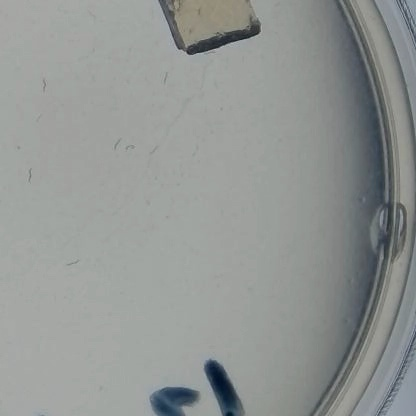worm: (62, 256, 81, 274), (22, 165, 36, 185), (85, 8, 98, 24), (162, 70, 172, 90), (112, 135, 123, 153), (147, 145, 162, 158), (190, 143, 201, 160), (124, 141, 137, 155), (39, 79, 50, 94), (33, 113, 46, 124)
